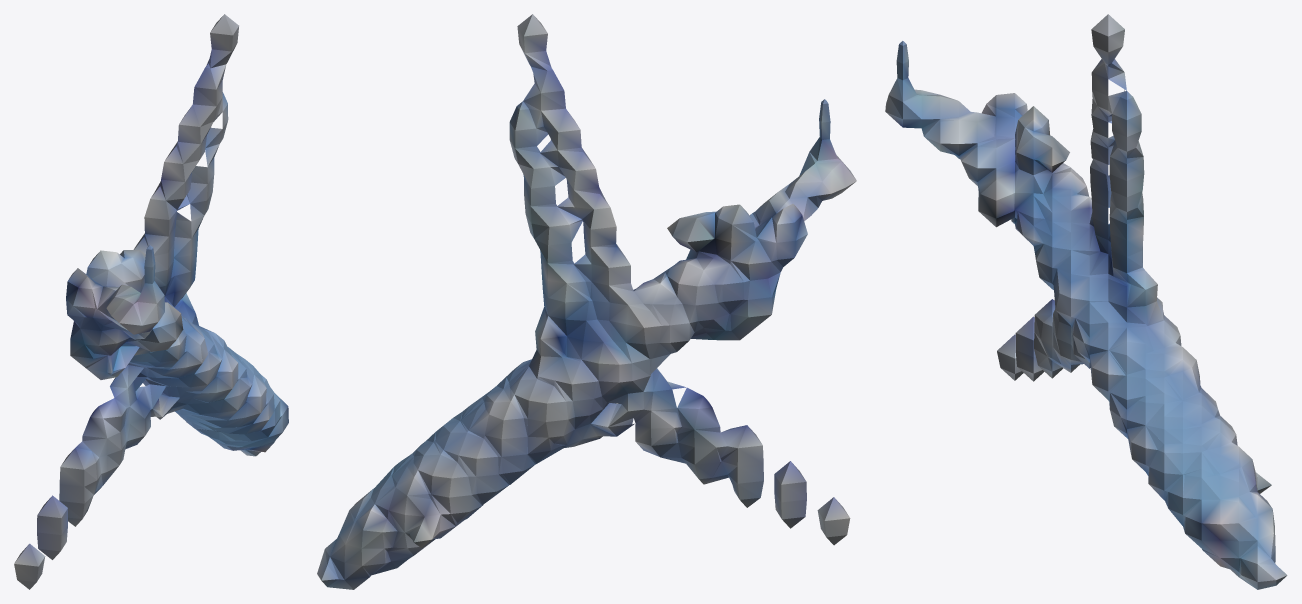
The model's file is 000004_aircraft_jet_airplane_10240_64.glb.
3 renders of one model, left to right at view 1: azimuth 30°, elevation 25°; view 2: azimuth 150°, elevation 25°; view 3: azimuth 270°, elevation 25°, orthographic. The views are drawn at different scales.
Visible parts, largest first — view 1: world; view 2: world; view 3: world.
Part boxes in pixels (x1,y1,x2,y2): world: [14, 14, 288, 589]; world: [317, 14, 856, 589]; world: [885, 14, 1287, 589].
Bounding box in the file's own units: 0.6584 × 0.8521 × 0.5952.
